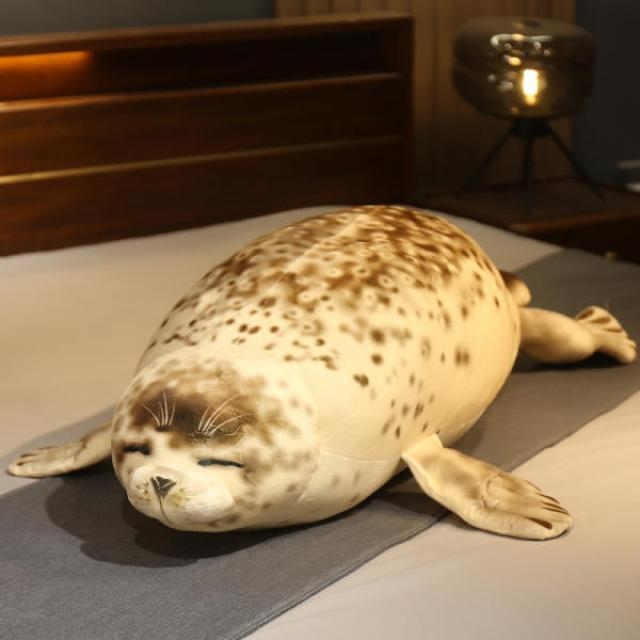WaterDog: (10, 202, 634, 548)
